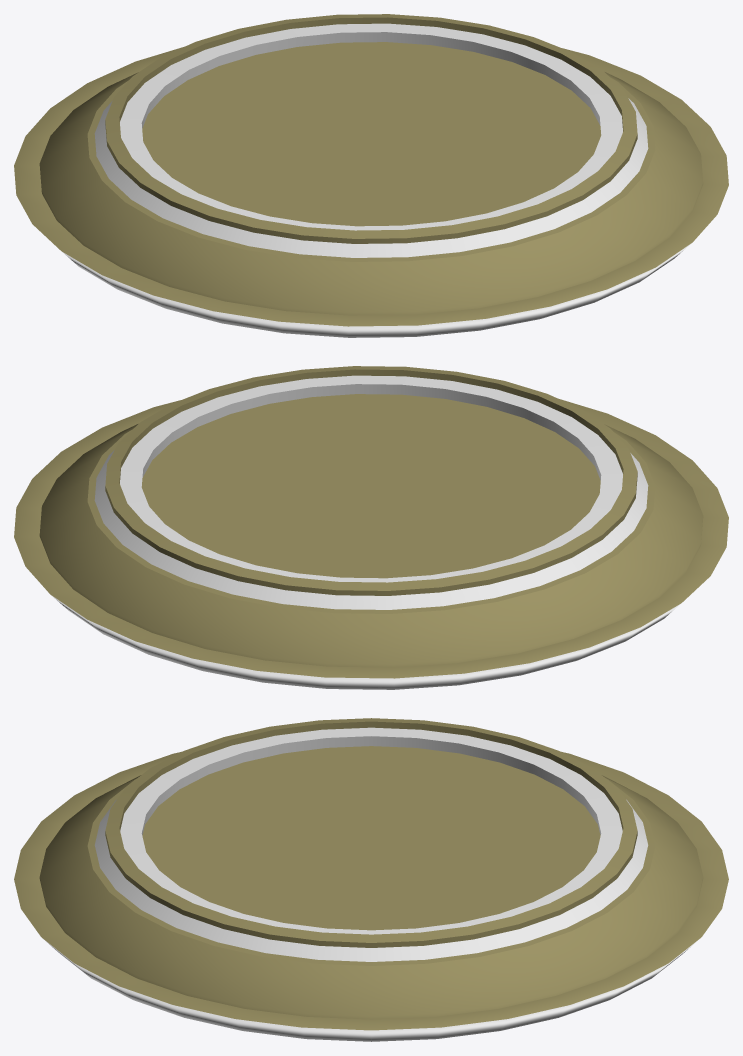
The model's file is Platform.fbx.
3 renders of one model, top to bottom at view 1: azimuth 30°, elevation 25°; view 2: azimuth 150°, elevation 25°; view 3: azimuth 270°, elevation 25°, orthographic.
Parts seen in each view (by area): view 1: Cylinder; view 2: Cylinder; view 3: Cylinder.
Part boxes in pixels (x1,y1,x2,y2): Cylinder: [14, 14, 728, 337]; Cylinder: [14, 366, 728, 689]; Cylinder: [14, 718, 728, 1041].
Bounding box in the file's own units: 325 × 35.72 × 325.
